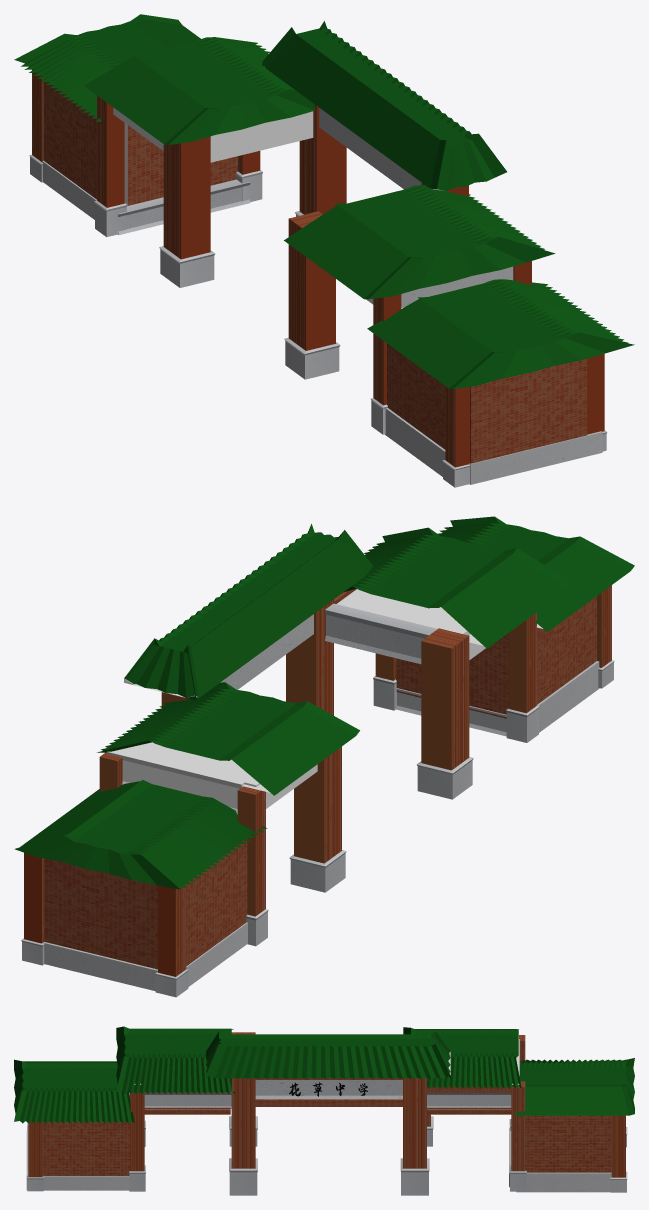
The picture shows the model from 3 angles, top to bottom: view 1: azimuth 30°, elevation 25°; view 2: azimuth 150°, elevation 25°; view 3: azimuth 270°, elevation 25°; orthographic projection. The views are drawn at different scales.
Visible parts, largest first — view 1: 立方体.004, 立方体.026, 立方体.003, 立方体.019, 立方体.029, 立方体.039, 立方体.008, 立方体.011, 立方体.038, 立方体.028, 立方体.001, 立方体.015 (+13 smaller); view 2: 立方体.003, 立方体.004, 立方体.039, 立方体.019, 立方体.036, 立方体.011, 立方体.026, 立方体.008, 立方体.038, 立方体.028, 立方体.014, 立方体.006 (+14 smaller); view 3: 立方体.003, 立方体.026, 立方体.004, 立方体.039, 立方体.037, 立方体.027, 立方体.019, 立方体, 立方体.001, 立方体.002, 立方体.043, 立方体.017 (+13 smaller).
Boxes of the visible parts, bbox=[...] form: 立方体.004: bbox=[284, 185, 555, 299]; 立方体.026: bbox=[367, 279, 634, 388]; 立方体.003: bbox=[262, 21, 506, 191]; 立方体.019: bbox=[84, 37, 315, 144]; 立方体.029: bbox=[470, 359, 586, 463]; 立方体.039: bbox=[14, 14, 200, 123]; 立方体.008: bbox=[159, 136, 215, 287]; 立方体.011: bbox=[284, 211, 340, 379]; 立方体.038: bbox=[43, 79, 96, 199]; 立方体.028: bbox=[387, 343, 445, 449]; 立方体.001: bbox=[295, 104, 346, 216]; 立方体.015: bbox=[94, 95, 127, 237]; 立方体.003: bbox=[124, 524, 372, 700]; 立方体.004: bbox=[336, 527, 572, 648]; 立方体.039: bbox=[14, 780, 267, 889]; 立方体.019: bbox=[97, 682, 359, 795]; 立方体.036: bbox=[44, 858, 157, 969]; 立方体.011: bbox=[416, 628, 473, 799]; 立方体.026: bbox=[437, 516, 634, 631]; 立方体.008: bbox=[289, 746, 346, 892]; 立方体.038: bbox=[186, 837, 247, 965]; 立方体.028: bbox=[537, 596, 596, 704]; 立方体.014: bbox=[325, 603, 437, 664]; 立方体.006: bbox=[107, 748, 249, 814]; 立方体.003: bbox=[206, 1031, 450, 1078]; 立方体.026: bbox=[14, 1059, 134, 1123]; 立方体.004: bbox=[116, 1026, 234, 1093]; 立方体.039: bbox=[515, 1058, 634, 1115]; 立方体.037: bbox=[525, 1115, 611, 1172]; 立方体.027: bbox=[42, 1121, 130, 1175]; 立方体.019: bbox=[403, 1027, 521, 1088]; 立方体: bbox=[229, 1078, 257, 1195]; 立方体.001: bbox=[400, 1078, 429, 1195]; 立方体.002: bbox=[255, 1080, 402, 1099]; 立方体.043: bbox=[516, 1172, 611, 1192]; 立方体.017: bbox=[509, 1081, 526, 1191].
Bounding box in the file's own units: 11.86 × 12.17 × 44.77.
Materials: 16 (12 with a texture image).
